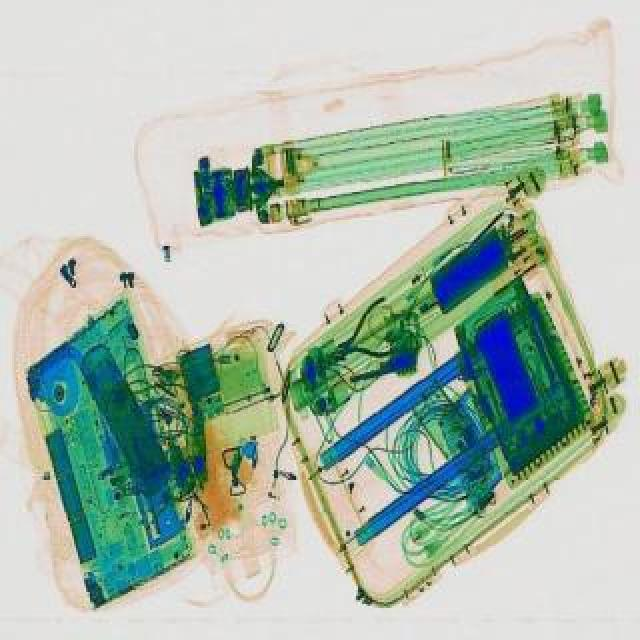wrench: (320, 294, 412, 372)
